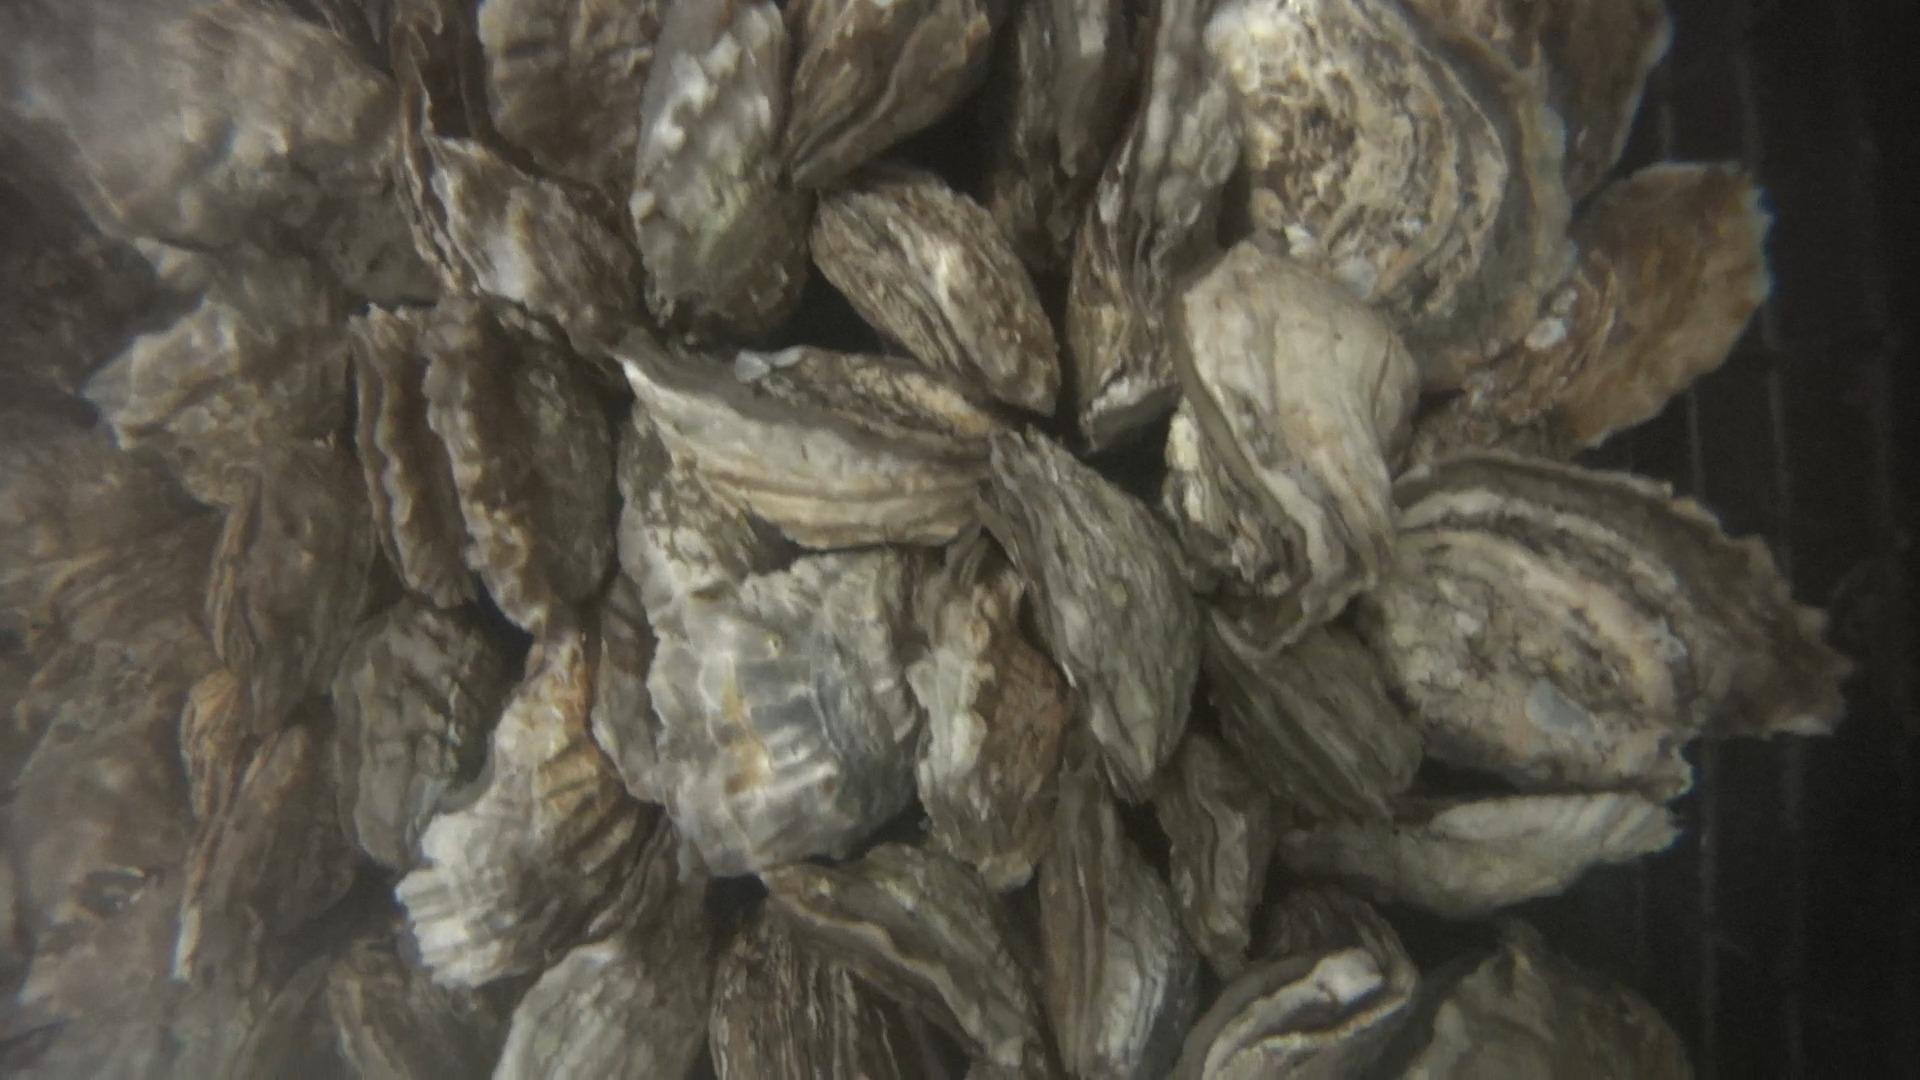3: (382, 0, 575, 302), (175, 705, 367, 998), (1170, 884, 1418, 1080), (332, 600, 509, 872), (1040, 733, 1176, 1080), (203, 463, 367, 729), (345, 307, 476, 607), (1159, 735, 1269, 969)
Oyster-Closed: (988, 429, 1203, 782), (618, 345, 992, 549), (1065, 16, 1240, 448), (410, 302, 611, 661), (811, 169, 1073, 419), (760, 853, 1034, 1067), (1200, 603, 1423, 829), (1283, 793, 1675, 919)
Oyster-Open: (1391, 456, 1853, 789), (1423, 164, 1767, 464), (400, 640, 662, 986), (661, 560, 920, 876), (1338, 920, 1691, 1080), (491, 828, 705, 1080), (717, 932, 949, 1080), (225, 942, 456, 1080)
